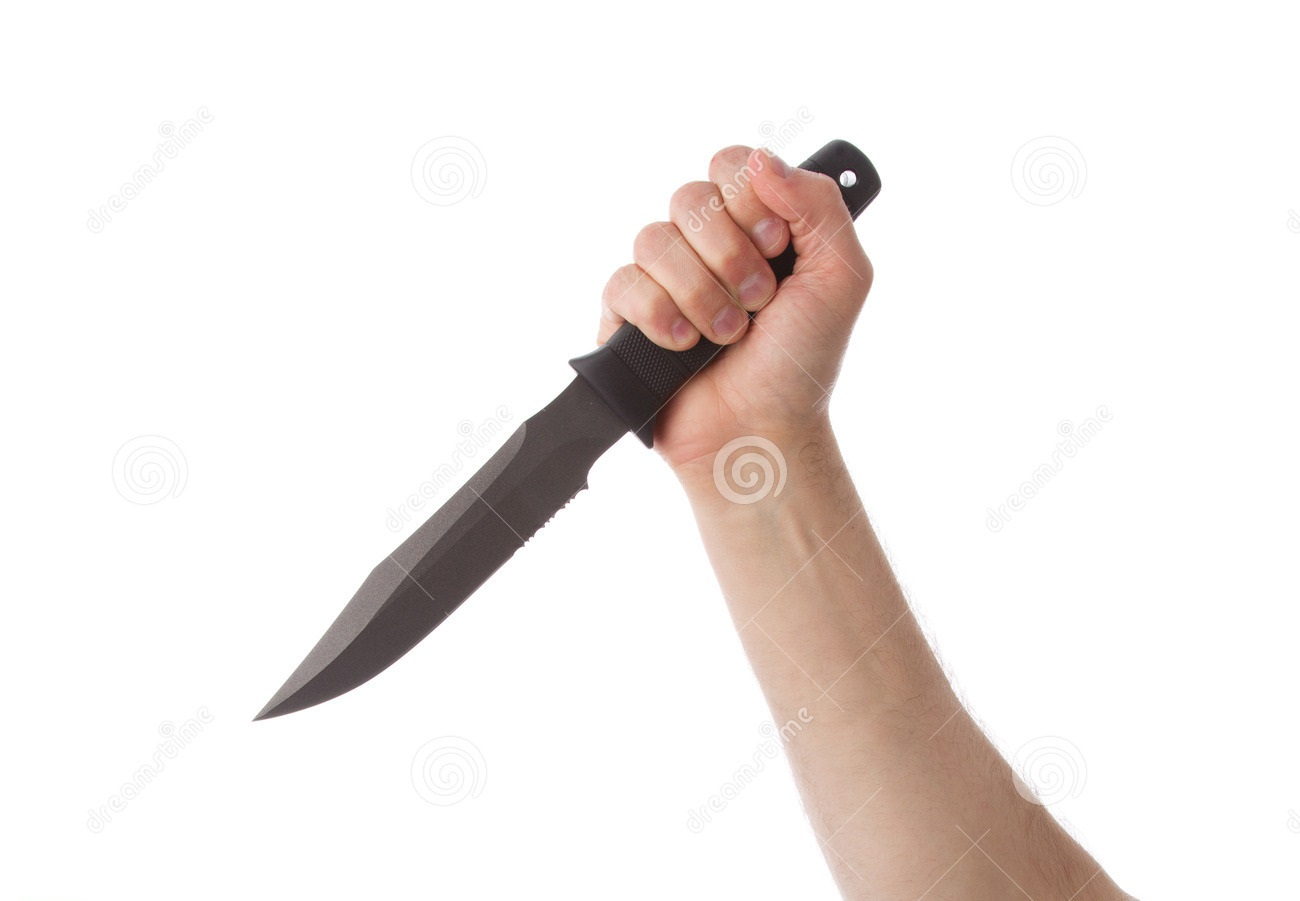knife: (236, 213, 795, 741)
